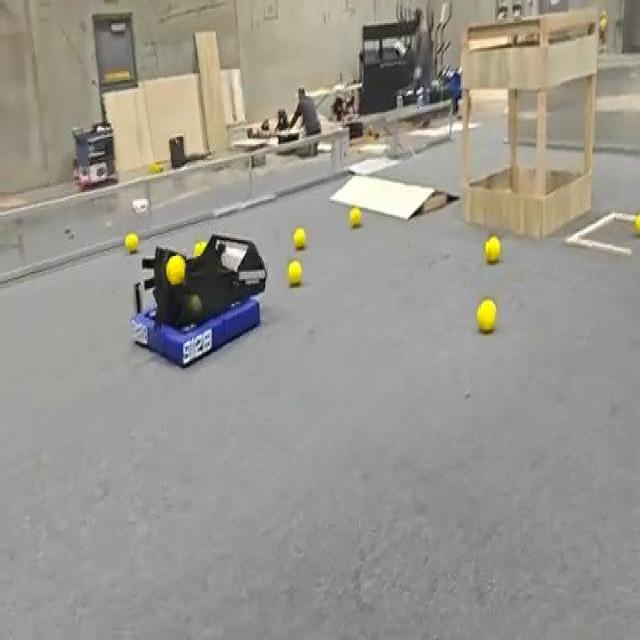Fuel: (476, 297, 498, 334), (476, 299, 497, 334), (165, 254, 185, 284), (484, 237, 500, 263), (288, 259, 302, 287), (287, 260, 302, 286), (293, 228, 306, 250), (124, 233, 138, 253), (124, 233, 138, 252), (293, 227, 305, 249), (349, 206, 361, 228), (349, 208, 361, 228), (193, 240, 206, 256), (194, 241, 206, 257)
